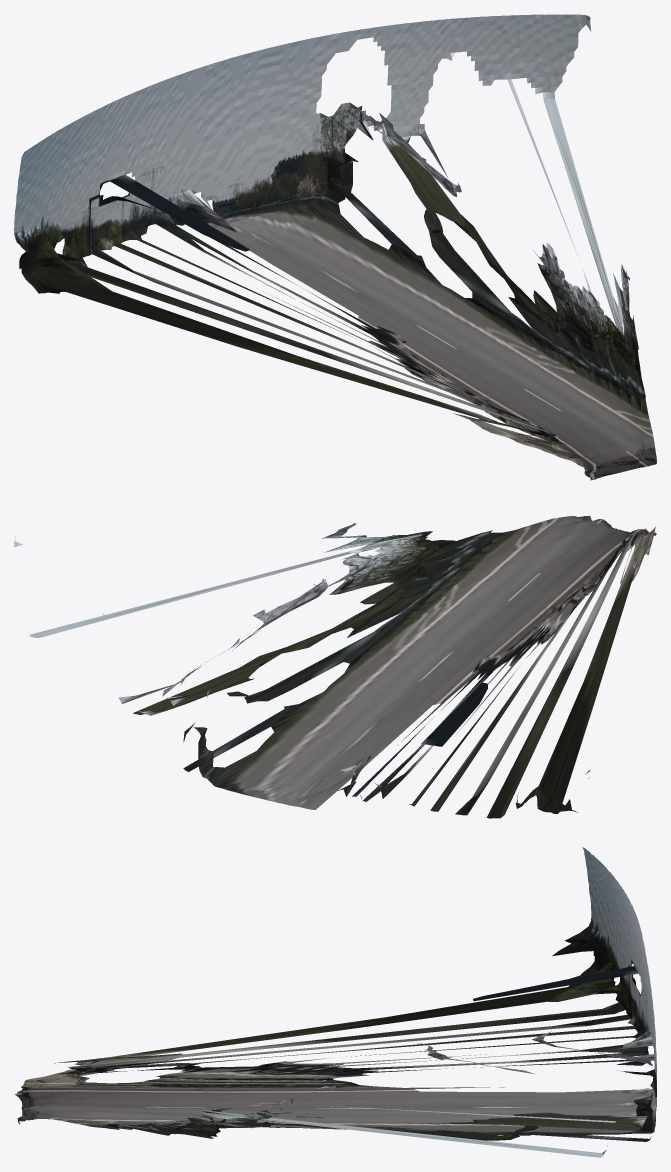
The picture shows the model from 3 angles, top to bottom: view 1: azimuth 30°, elevation 25°; view 2: azimuth 150°, elevation 25°; view 3: azimuth 270°, elevation 25°; orthographic projection. The views are drawn at different scales.
Parts seen in each view (by area): view 1: defaultobject; view 2: defaultobject; view 3: defaultobject.
Part boxes in pixels (<box>): defaultobject: <box>14,14,656,480</box>; defaultobject: <box>14,516,656,818</box>; defaultobject: <box>14,847,656,1157</box>.
Size of the model in its own units: 40.8 by 12.02 by 44.68.
1 material, 1 textured.
